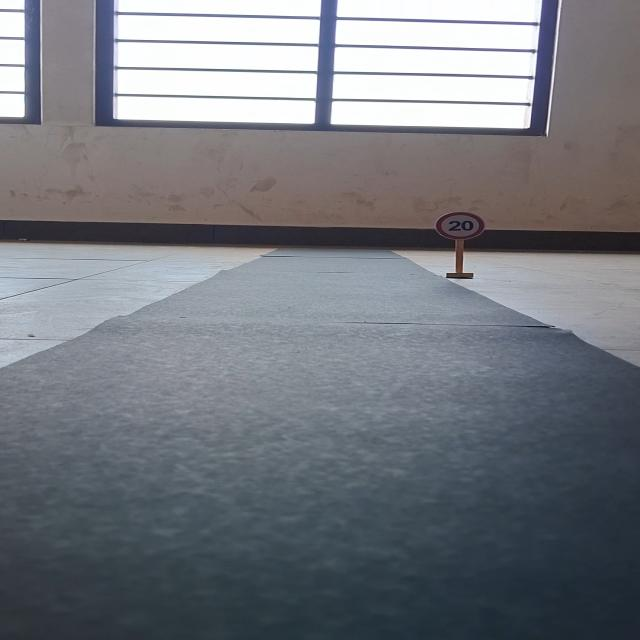Speed20: (429, 210, 491, 242)
